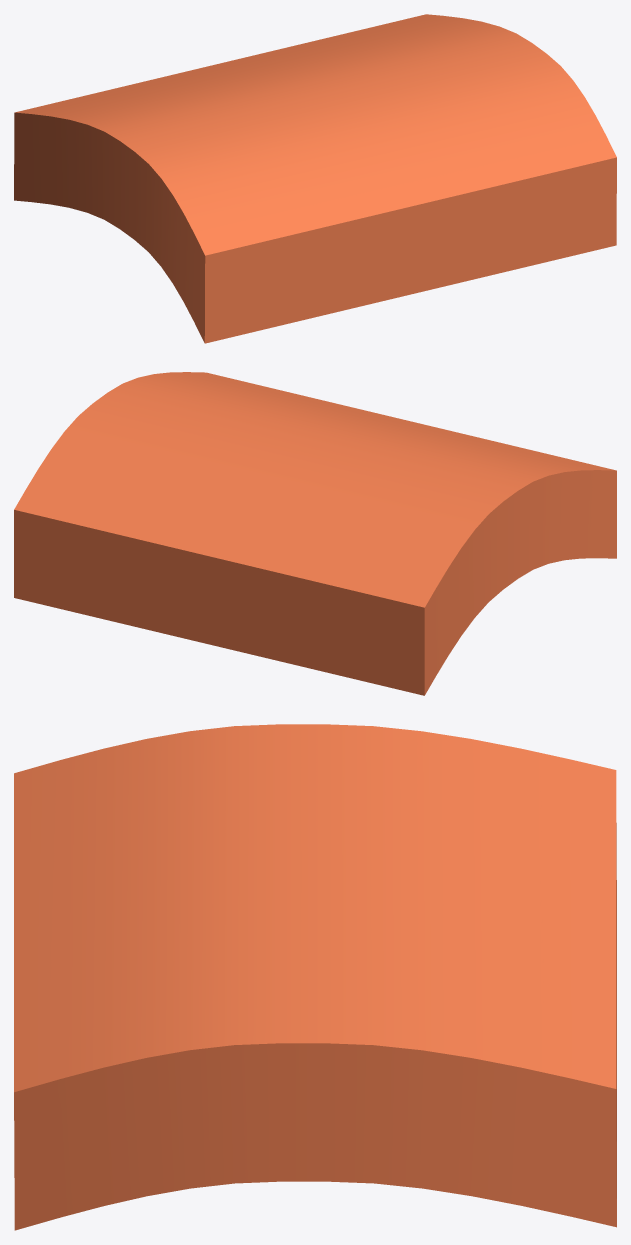
File: Transformed_Asset.fbx
3 renders of one model, top to bottom at view 1: azimuth 30°, elevation 25°; view 2: azimuth 150°, elevation 25°; view 3: azimuth 270°, elevation 25°, orthographic. The views are drawn at different scales.
Parts seen in each view (by area): view 1: 4.515; view 2: 4.515; view 3: 4.515.
Boxes of the visible parts, box(x1,y1,x2,y2) form: 4.515: box(14, 14, 616, 343); 4.515: box(14, 372, 616, 695); 4.515: box(14, 724, 616, 1230).
Size of the model in its own units: 0.5724 by 0.165 by 0.4465.
Materials: 1 (1 with a texture image).
